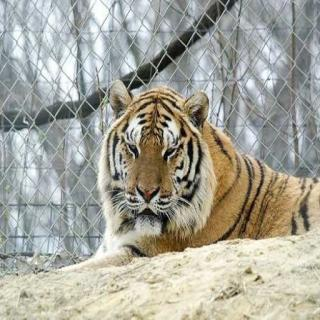Tiger: (72, 67, 320, 256)
